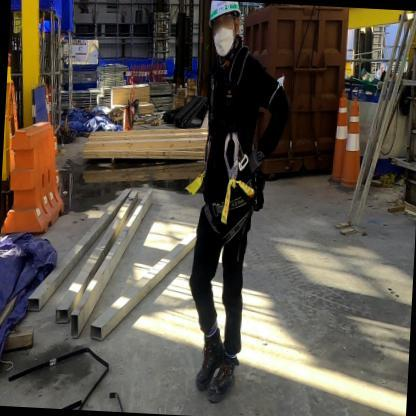safety-shoe: (189, 337, 221, 395), (203, 368, 246, 409)
